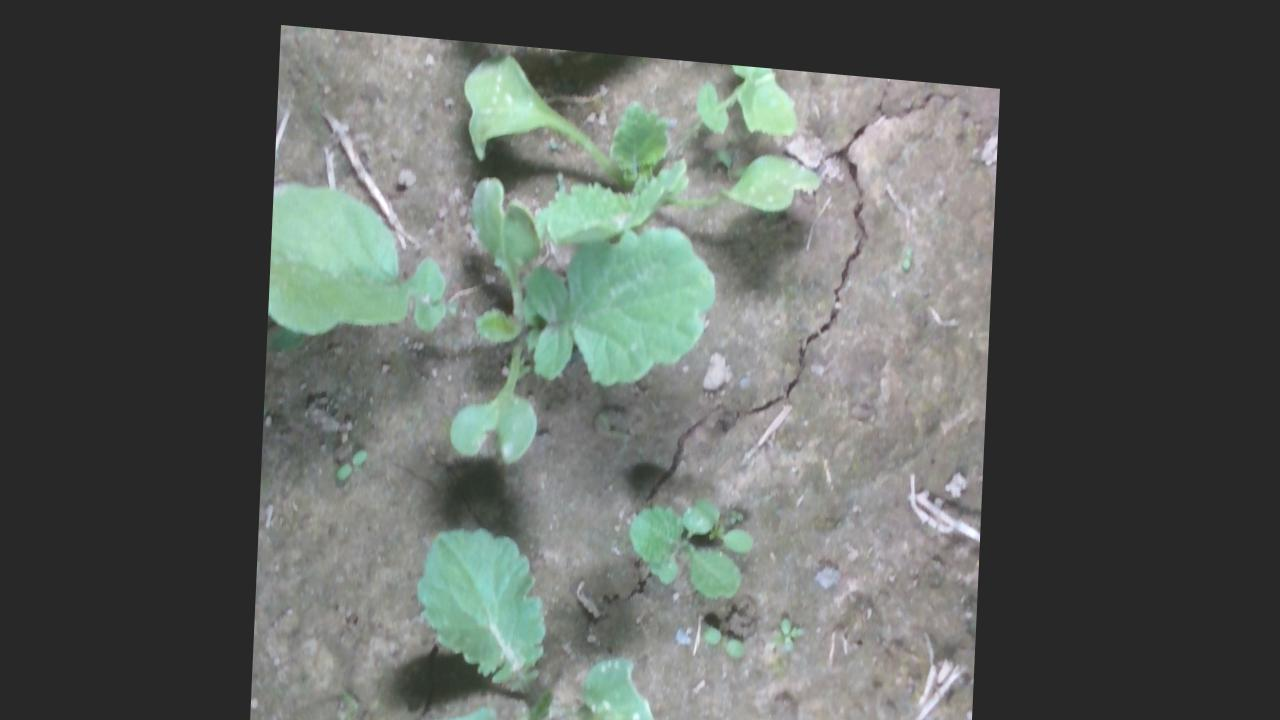weed: (707, 613, 754, 643), (782, 601, 812, 642)
